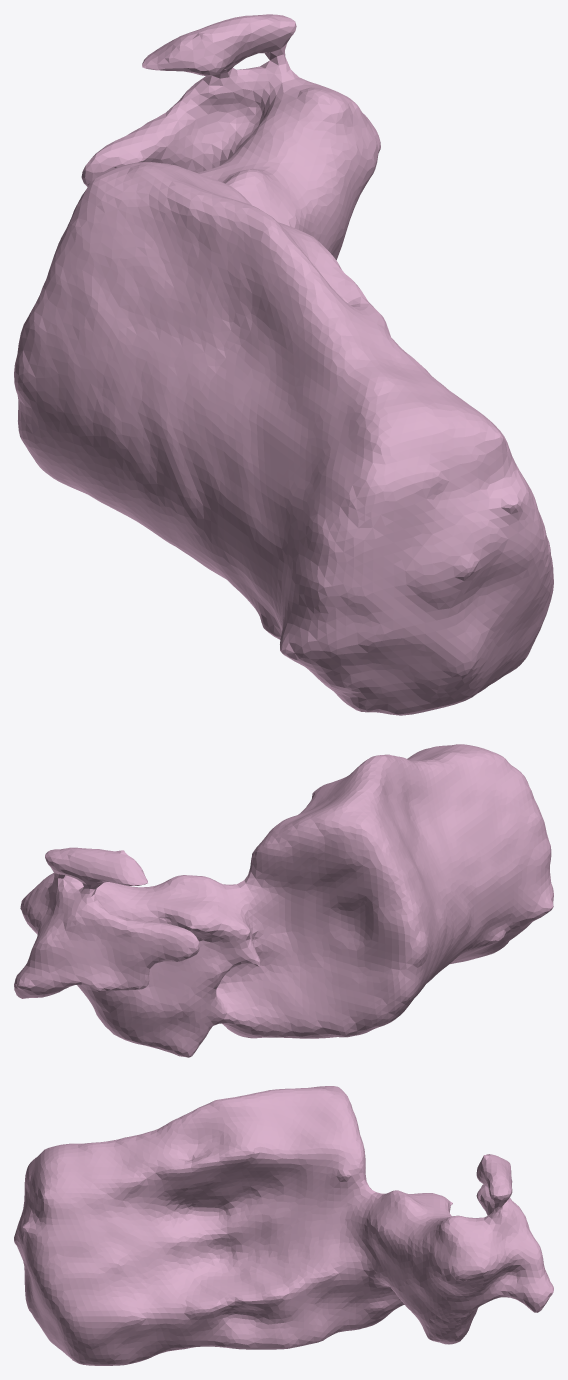
The model's file is Dcent3.glb.
The picture shows the model from 3 angles, top to bottom: view 1: azimuth 30°, elevation 25°; view 2: azimuth 150°, elevation 25°; view 3: azimuth 270°, elevation 25°; orthographic projection. The views are drawn at different scales.
Parts seen in each view (by area): view 1: Dcent3; view 2: Dcent3; view 3: Dcent3.
Part boxes in pixels (bbox=[...]): Dcent3: bbox=[14, 14, 553, 715]; Dcent3: bbox=[14, 744, 553, 1057]; Dcent3: bbox=[14, 1086, 553, 1365].
Size of the model in its own units: 0.00378 by 0.00298 by 0.00631.
